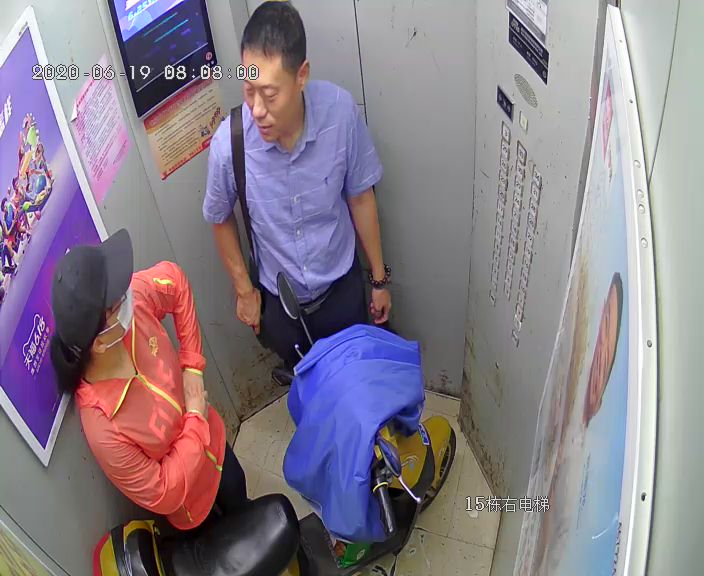Electric-bicycle: (97, 275, 452, 572)
